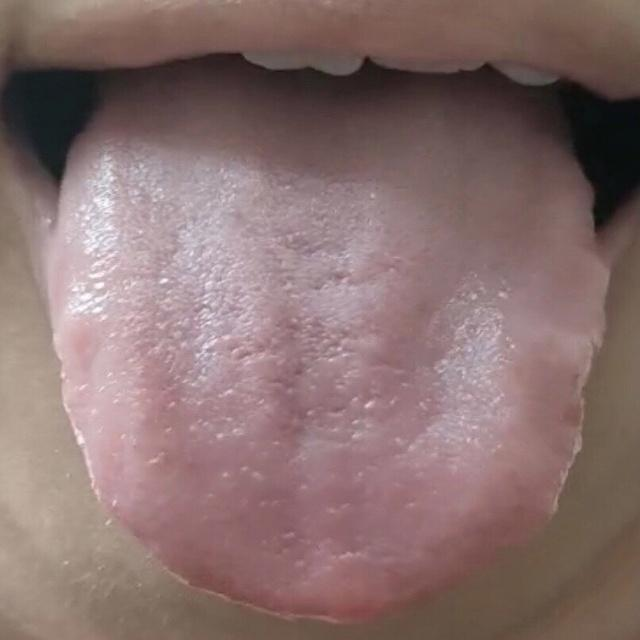baitaishe: (48, 57, 610, 626)
